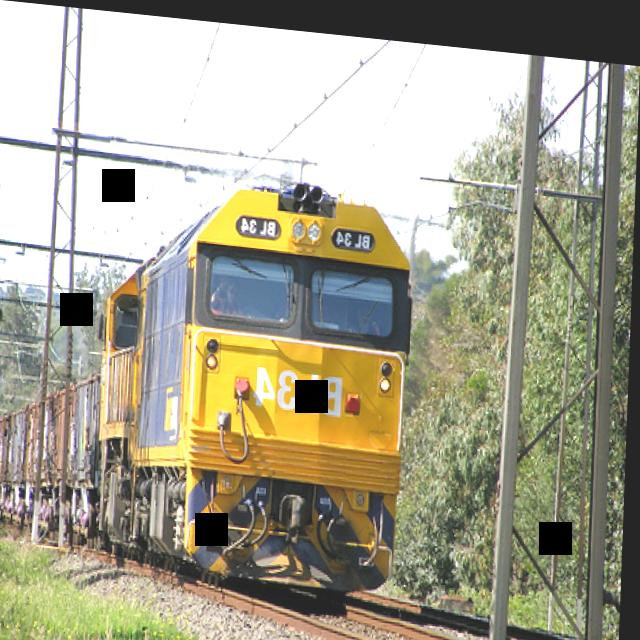locomotive: (90, 150, 421, 617)
